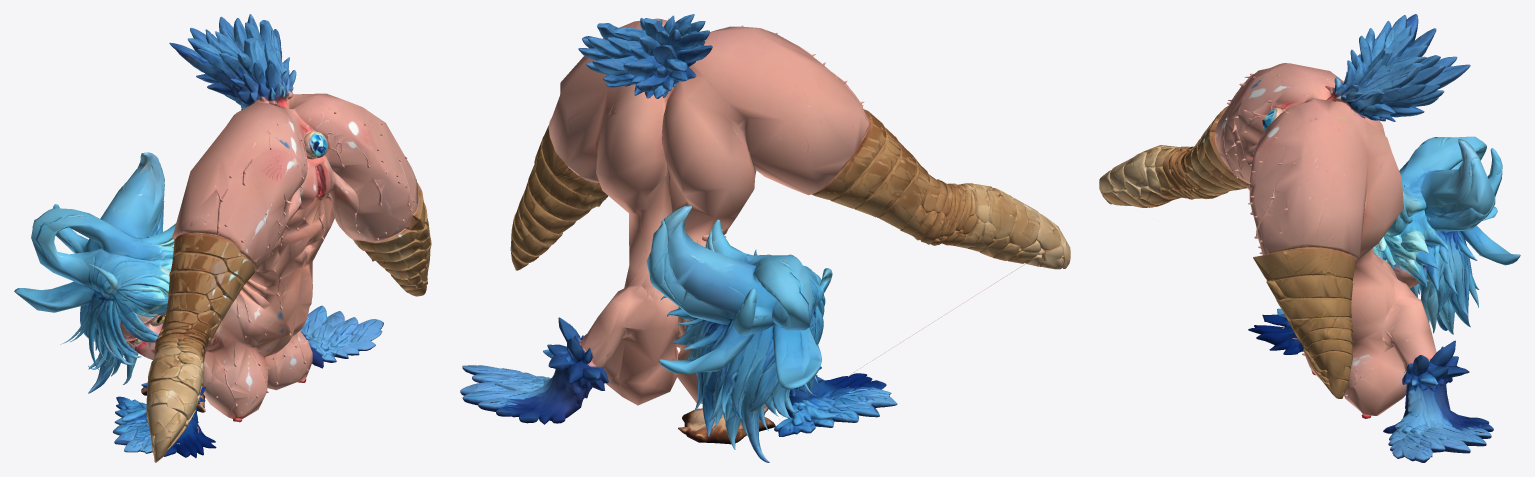
3 views of the same model, side by side, from view 1: azimuth 30°, elevation 25°; view 2: azimuth 150°, elevation 25°; view 3: azimuth 270°, elevation 25° (orthographic). The views are drawn at different scales.
Parts seen in each view (by area): view 1: model; view 2: model; view 3: model.
Boxes of the visible parts, left/top/right/bottom form: model: left=14, top=14, right=431, bottom=462; model: left=460, top=14, right=1070, bottom=462; model: left=1099, top=14, right=1520, bottom=462.
Bounding box in the file's own units: 1.82 × 1.6 × 1.71.
Materials: 1 (1 with a texture image).
